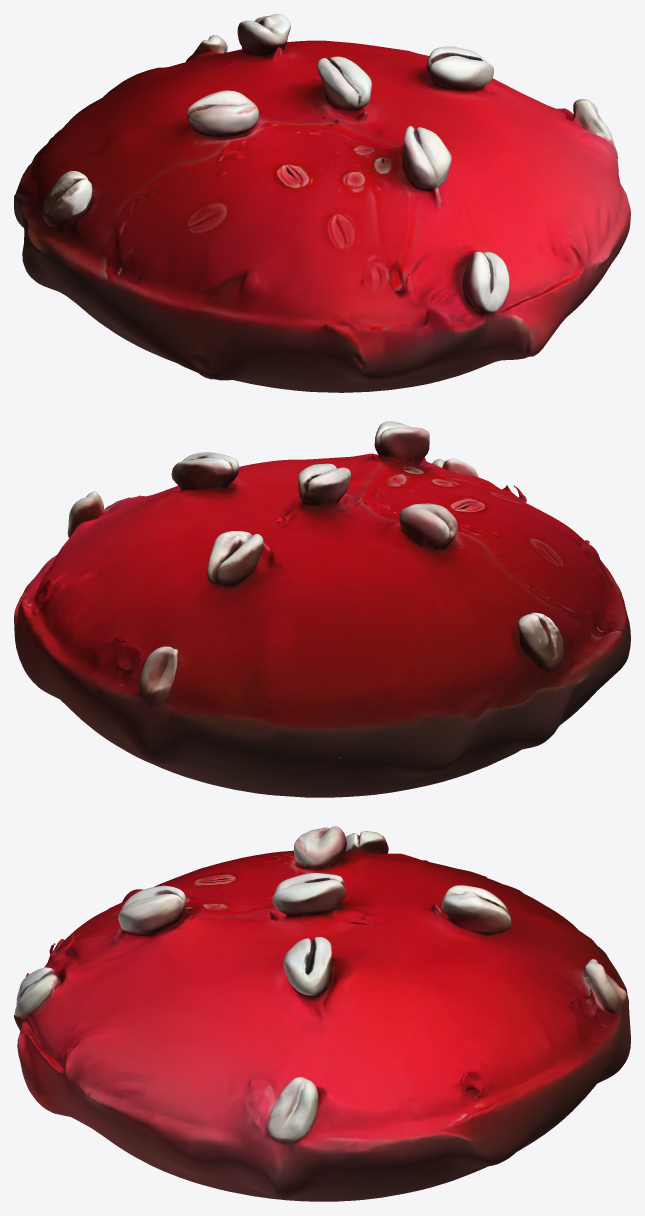
Rendered from tresor-calebasse-rouge.glb.
3 views of the same model, one above another, from view 1: azimuth 30°, elevation 25°; view 2: azimuth 150°, elevation 25°; view 3: azimuth 270°, elevation 25° (orthographic).
Visible parts, largest first — view 1: tripo_node_cee8de6c-7d72-4e65-8c02-c9fb83982f6f; view 2: tripo_node_cee8de6c-7d72-4e65-8c02-c9fb83982f6f; view 3: tripo_node_cee8de6c-7d72-4e65-8c02-c9fb83982f6f.
Part boxes in pixels (x1,y1,x2,y2): tripo_node_cee8de6c-7d72-4e65-8c02-c9fb83982f6f: [14, 14, 630, 392]; tripo_node_cee8de6c-7d72-4e65-8c02-c9fb83982f6f: [14, 421, 630, 797]; tripo_node_cee8de6c-7d72-4e65-8c02-c9fb83982f6f: [14, 826, 630, 1201].
Size of the model in its own units: 0.9785 by 0.4624 by 0.9731.
Materials: 1 (1 with a texture image).
